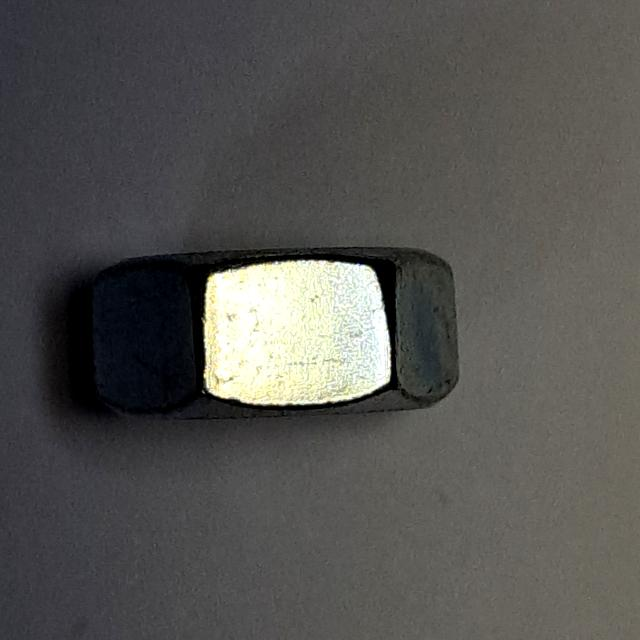Side_Excellent: (79, 219, 474, 439)
